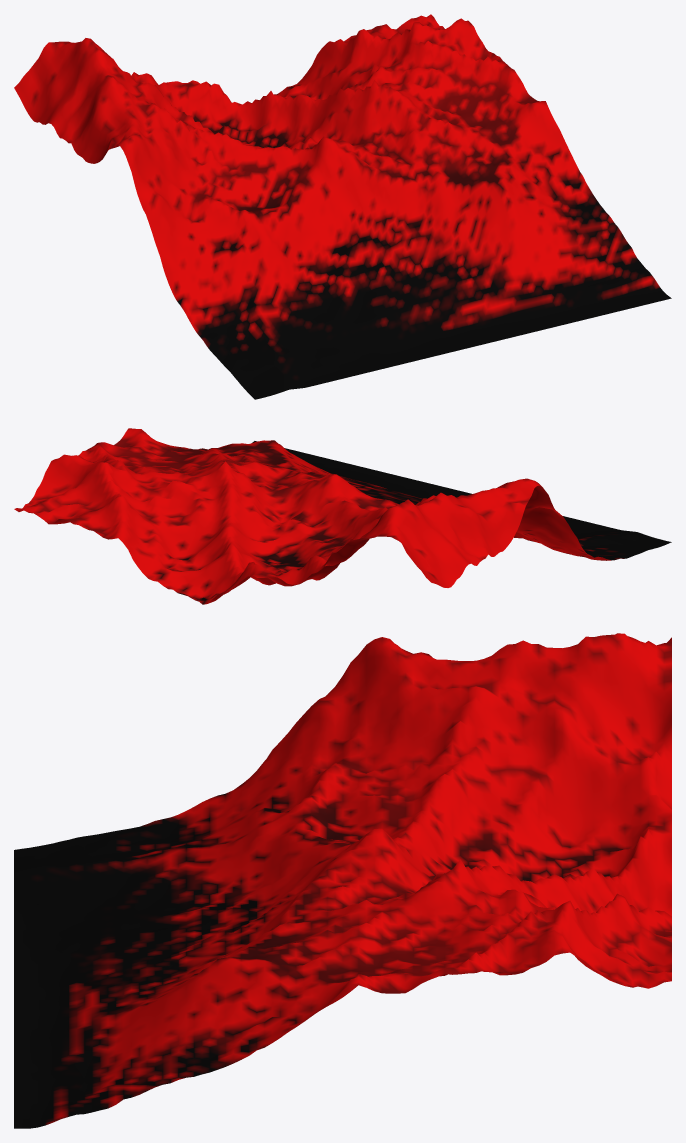
The model's file is SM_FutureCity_Terrain_3_3.fbx.
3 views of the same model, one above another, from view 1: azimuth 30°, elevation 25°; view 2: azimuth 150°, elevation 25°; view 3: azimuth 270°, elevation 25° (orthographic). The views are drawn at different scales.
Parts seen in each view (by area): view 1: SM_FutureCity_Terrain_3_3; view 2: SM_FutureCity_Terrain_3_3; view 3: SM_FutureCity_Terrain_3_3.
Boxes of the visible parts, left/top/right/bottom form: SM_FutureCity_Terrain_3_3: left=14, top=14, right=671, bottom=399; SM_FutureCity_Terrain_3_3: left=14, top=428, right=671, bottom=604; SM_FutureCity_Terrain_3_3: left=14, top=633, right=671, bottom=1128.
Size of the model in its own units: 50400 by 21406 by 50400.
